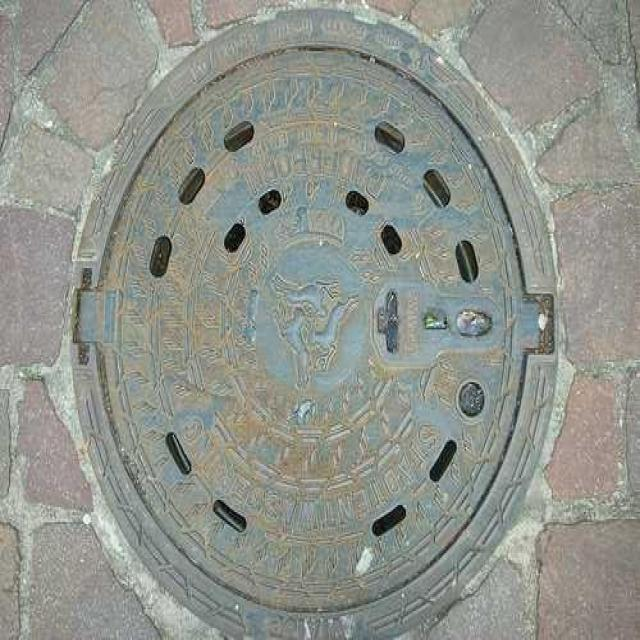manhole: (54, 9, 566, 640)
